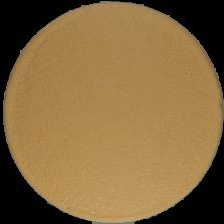21695-759: (0, 0, 224, 224)
